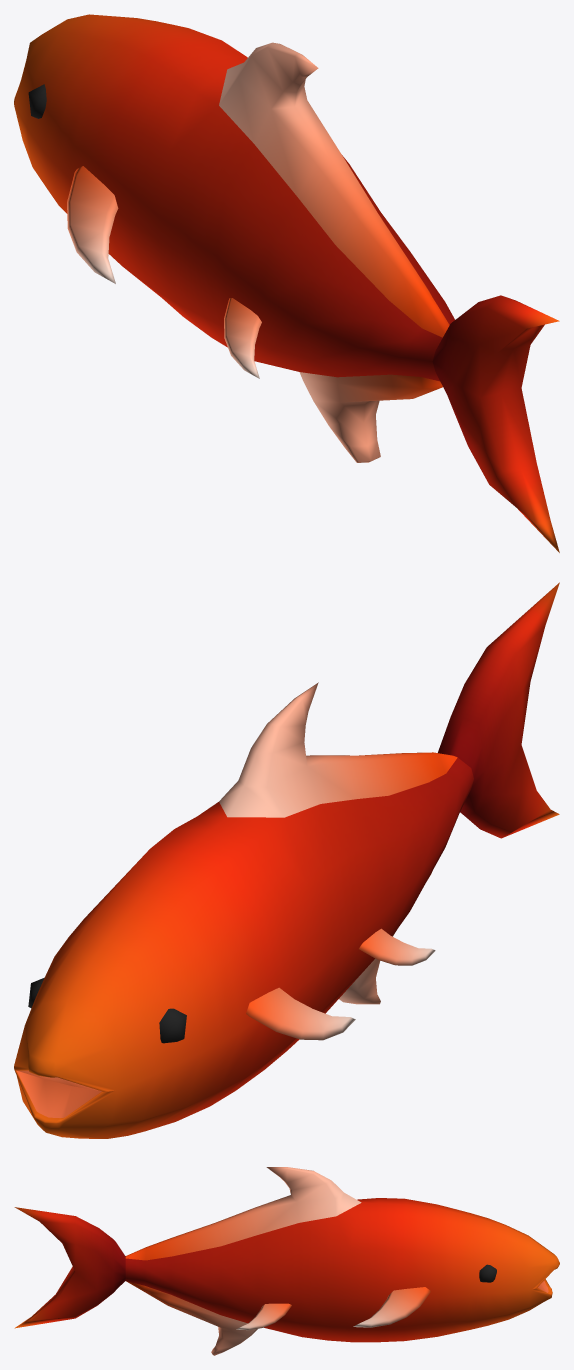
Rendered from Red_Fish_01.fbx.
3 views of the same model, one above another, from view 1: azimuth 30°, elevation 25°; view 2: azimuth 150°, elevation 25°; view 3: azimuth 270°, elevation 25° (orthographic). The views are drawn at different scales.
Parts seen in each view (by area): view 1: Red_Fish_01; view 2: Red_Fish_01; view 3: Red_Fish_01.
Part boxes in pixels (x1,y1,x2,y2): Red_Fish_01: (14, 14, 559, 552); Red_Fish_01: (14, 582, 559, 1138); Red_Fish_01: (14, 1167, 559, 1355).
Size of the model in its own units: 26.11 by 35.89 by 95.
